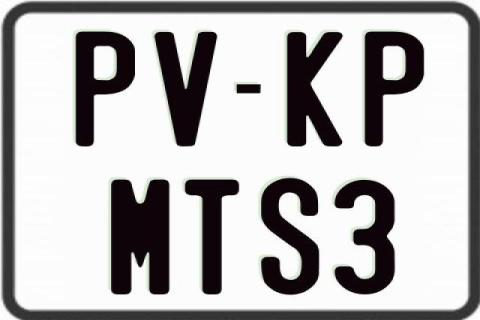0: (332, 180, 396, 297)
K: (287, 32, 347, 148)
M: (108, 178, 169, 294)
P: (362, 31, 426, 148), (76, 30, 140, 146)
S: (260, 177, 320, 293)
T: (185, 178, 243, 294)
V: (153, 32, 222, 150)
